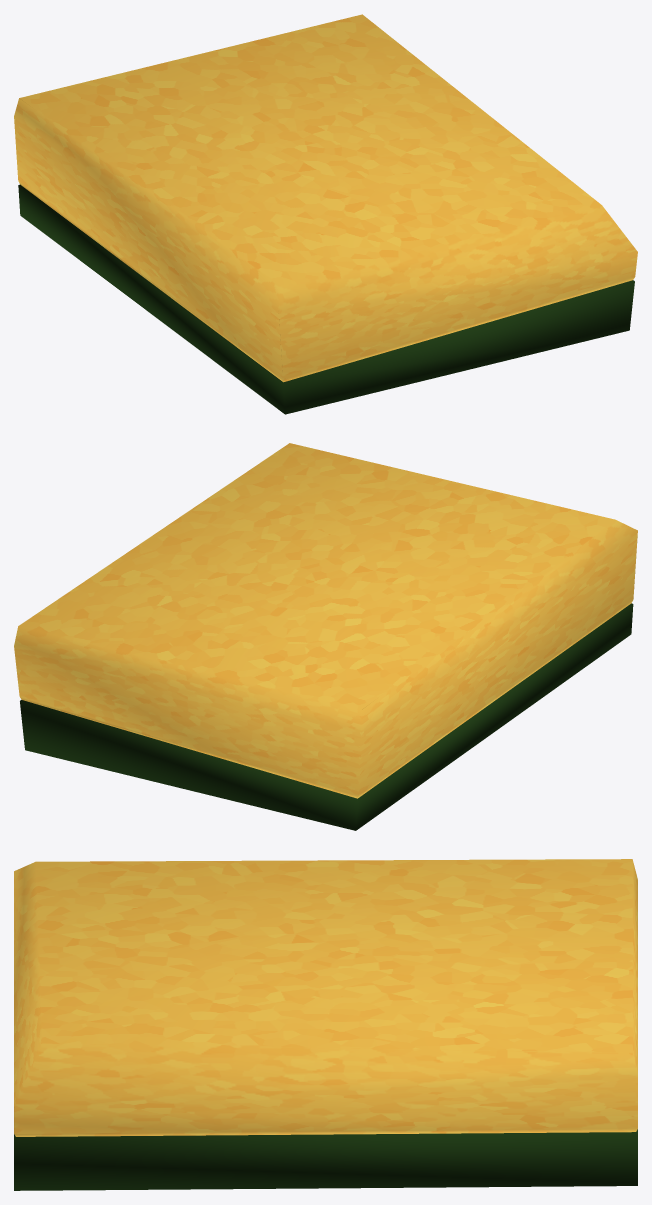
Rendered from Sponge.glb.
3 views of the same model, one above another, from view 1: azimuth 30°, elevation 25°; view 2: azimuth 150°, elevation 25°; view 3: azimuth 270°, elevation 25° (orthographic). The views are drawn at different scales.
Parts seen in each view (by area): view 1: Sponge; view 2: Sponge; view 3: Sponge.
Part boxes in pixels (bbox=[...]): Sponge: bbox=[14, 14, 637, 414]; Sponge: bbox=[14, 443, 637, 830]; Sponge: bbox=[14, 859, 637, 1190].
Bounding box in the file's own units: 0.087 × 0.0277 × 0.1132.
2 materials, 1 textured.
